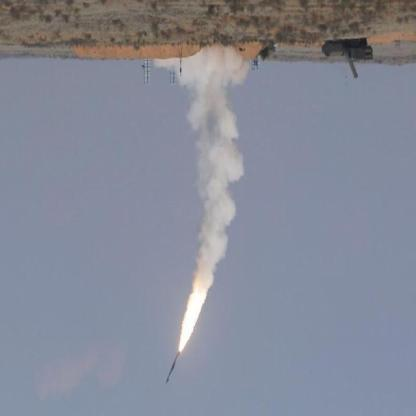MIL_TBM: (164, 352, 182, 386)
